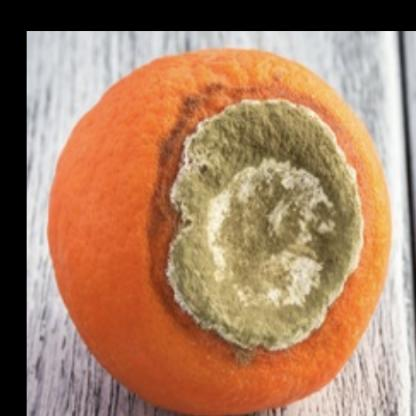rotten: (49, 51, 390, 416)
